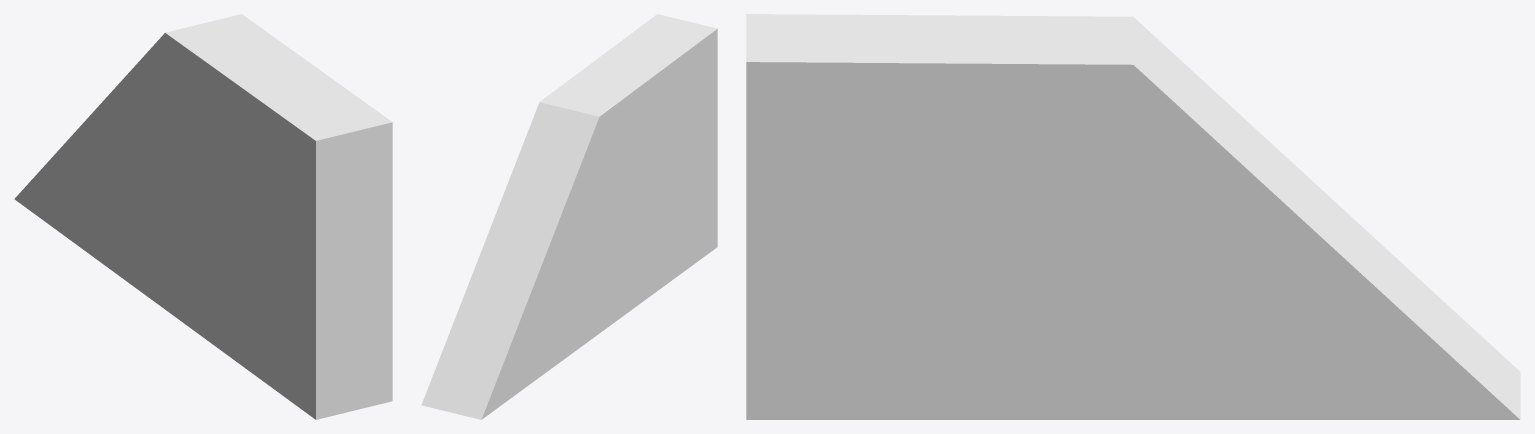
File: A_axis_collider_2.glb
3 views of the same model, side by side, from view 1: azimuth 30°, elevation 25°; view 2: azimuth 150°, elevation 25°; view 3: azimuth 270°, elevation 25° (orthographic). The views are drawn at different scales.
Parts seen in each view (by area): view 1: A_axis_wall_collider.2; view 2: A_axis_wall_collider.2; view 3: A_axis_wall_collider.2.
Part boxes in pixels (x1,y1,x2,y2): A_axis_wall_collider.2: (14,14,392,419); A_axis_wall_collider.2: (421,14,717,419); A_axis_wall_collider.2: (746,14,1520,419).
Bounding box in the file's own units: 0.72 × 2.5 × 4.9.
1 material, 1 textured.
